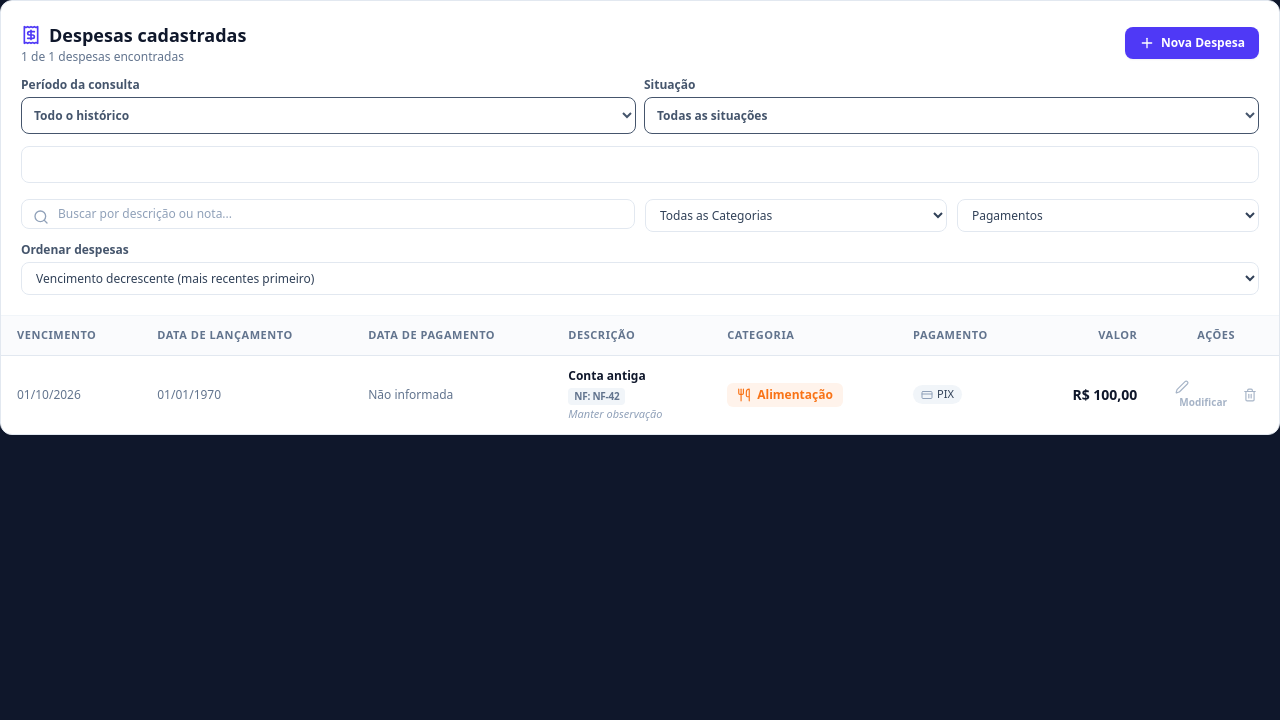
Test: submitting step one with Enter only advances the form
The image size is (1280, 720).
Click the button titled "Editar Despesa": coordinates (1201, 395) [1169,374,1233,416]
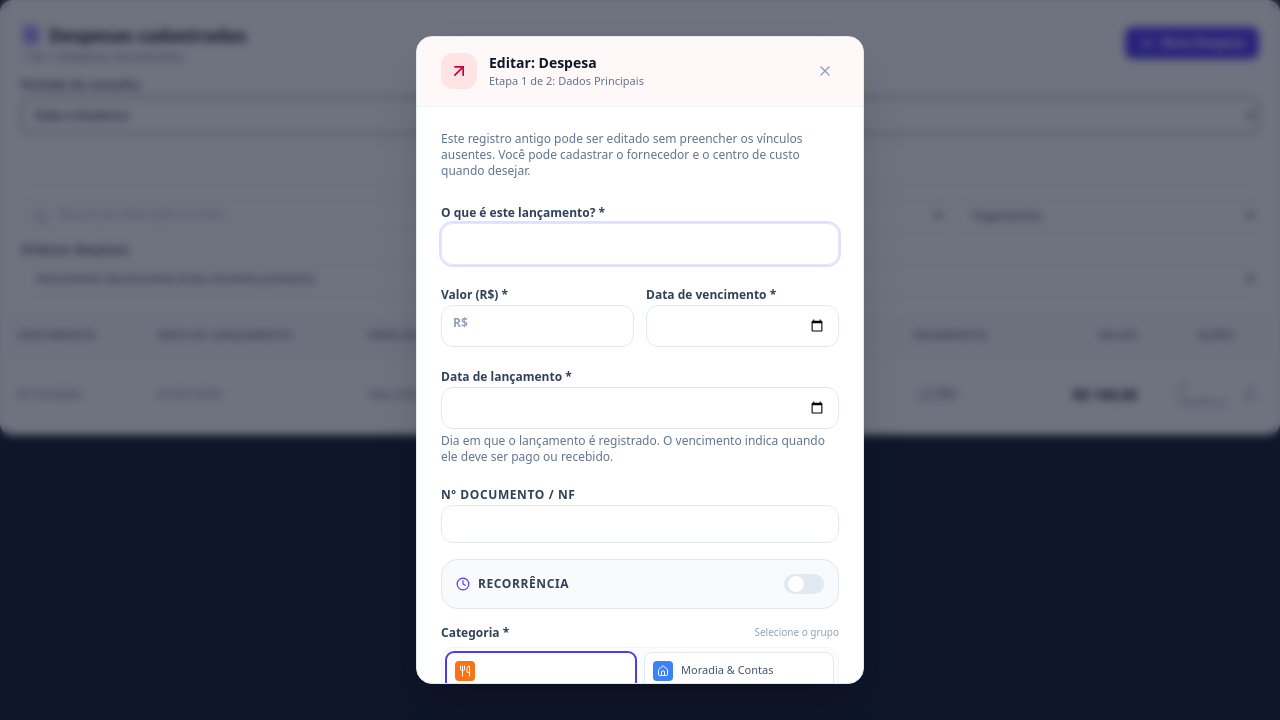
Submit the form with placeholder "Ex: Mercado, Aluguel, Internet", box [417,106,863,683]
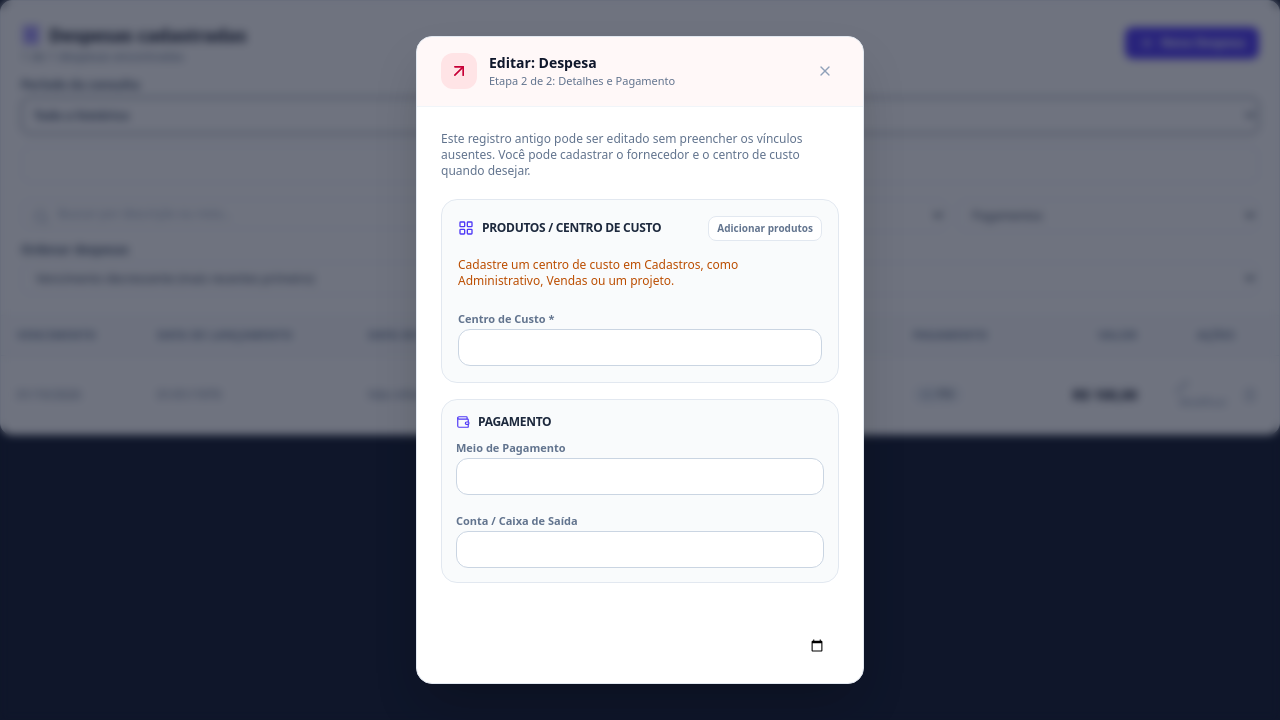
Result: the text "Etapa 2 de 2: Detalhes e Pagamento" is shown at [489,73,675,90]
